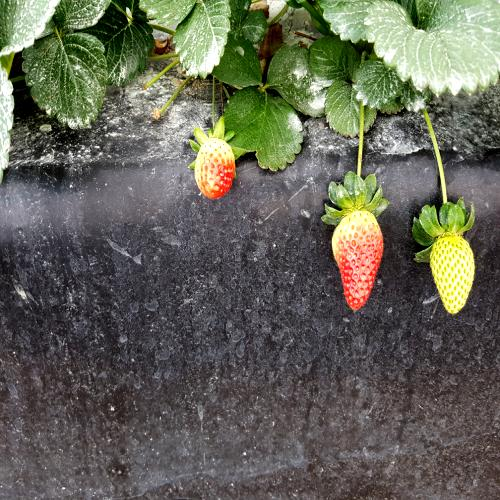partially-ripe: (334, 201, 383, 310), (200, 130, 235, 206)
unripe: (427, 225, 476, 326)
